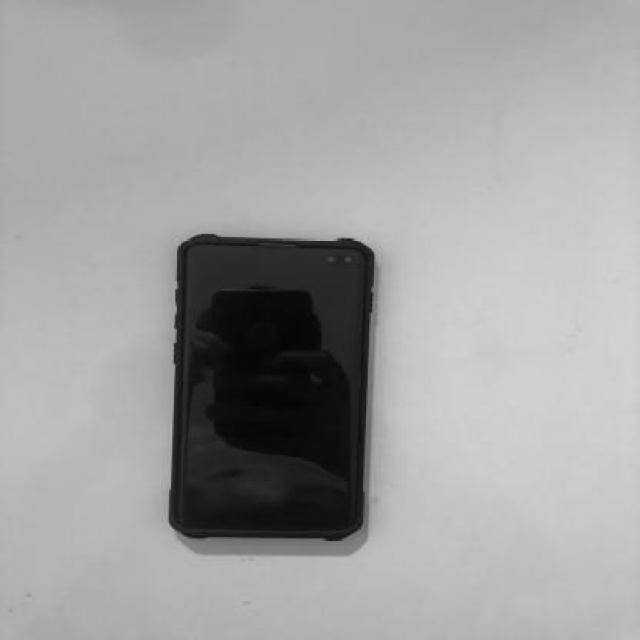fake: (164, 234, 376, 542)
